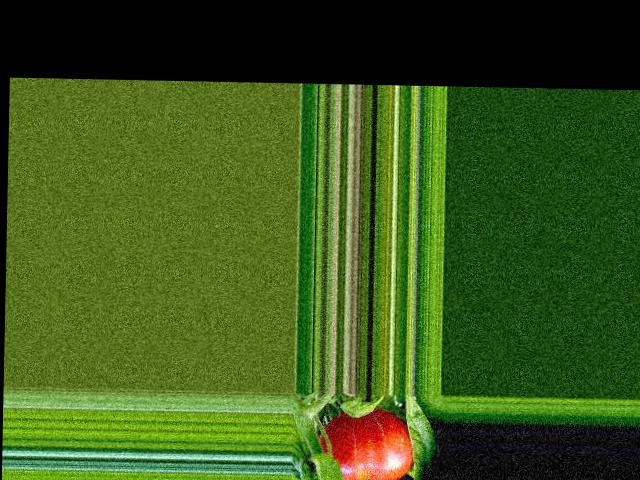tomato: (317, 407, 414, 480)
